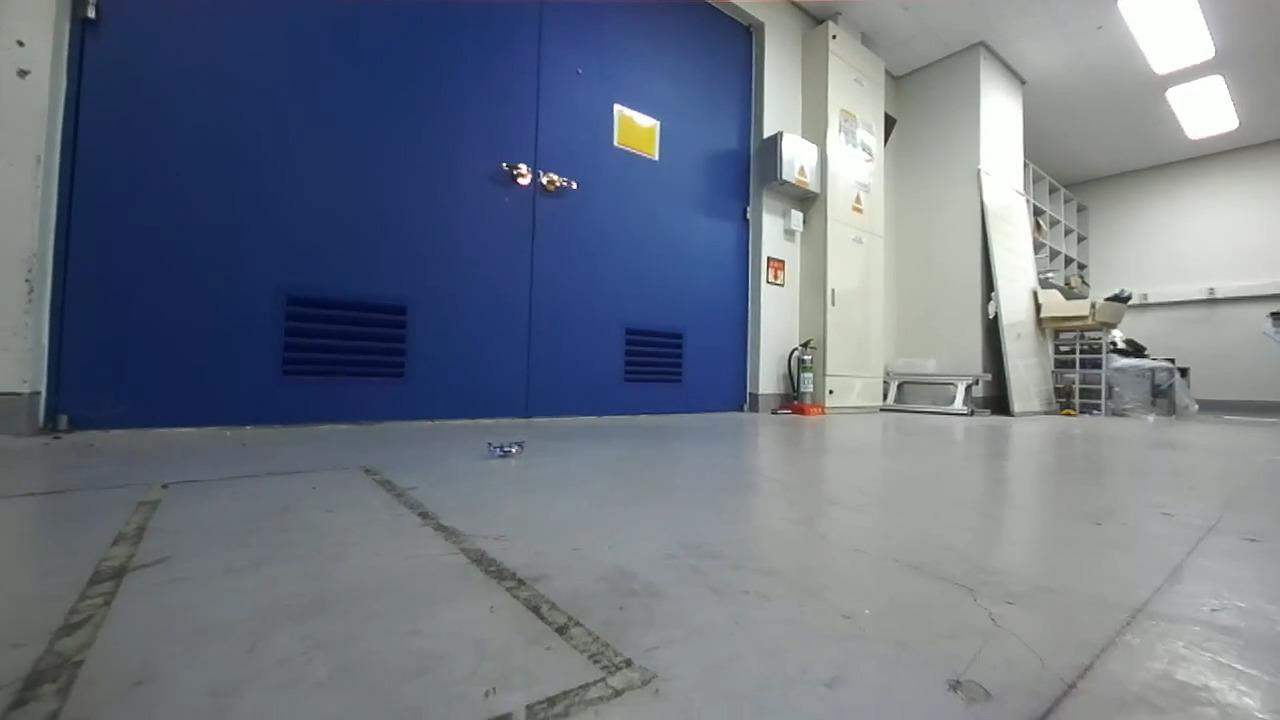crazyflie: (482, 433, 532, 463)
